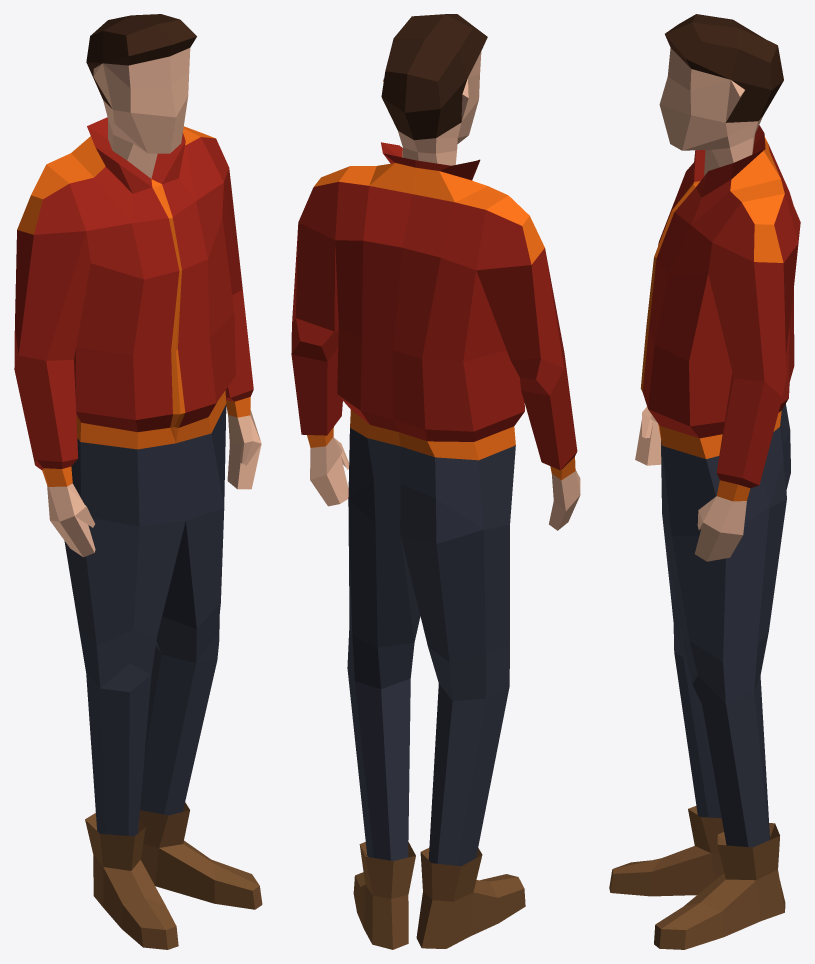
Rendered from AutumnManC.001.glb.
The picture shows the model from 3 angles, left to right: view 1: azimuth 30°, elevation 25°; view 2: azimuth 150°, elevation 25°; view 3: azimuth 270°, elevation 25°; orthographic projection. The views are drawn at different scales.
Parts seen in each view (by area): view 1: AutumnManC.001; view 2: AutumnManC.001; view 3: AutumnManC.001.
Boxes of the visible parts, x1,y1,x2,y2 form: AutumnManC.001: [14, 14, 262, 949]; AutumnManC.001: [291, 14, 580, 949]; AutumnManC.001: [609, 14, 800, 949].
Size of the model in its own units: 0.5113 by 1.77 by 0.3471.
1 material, 1 textured.
